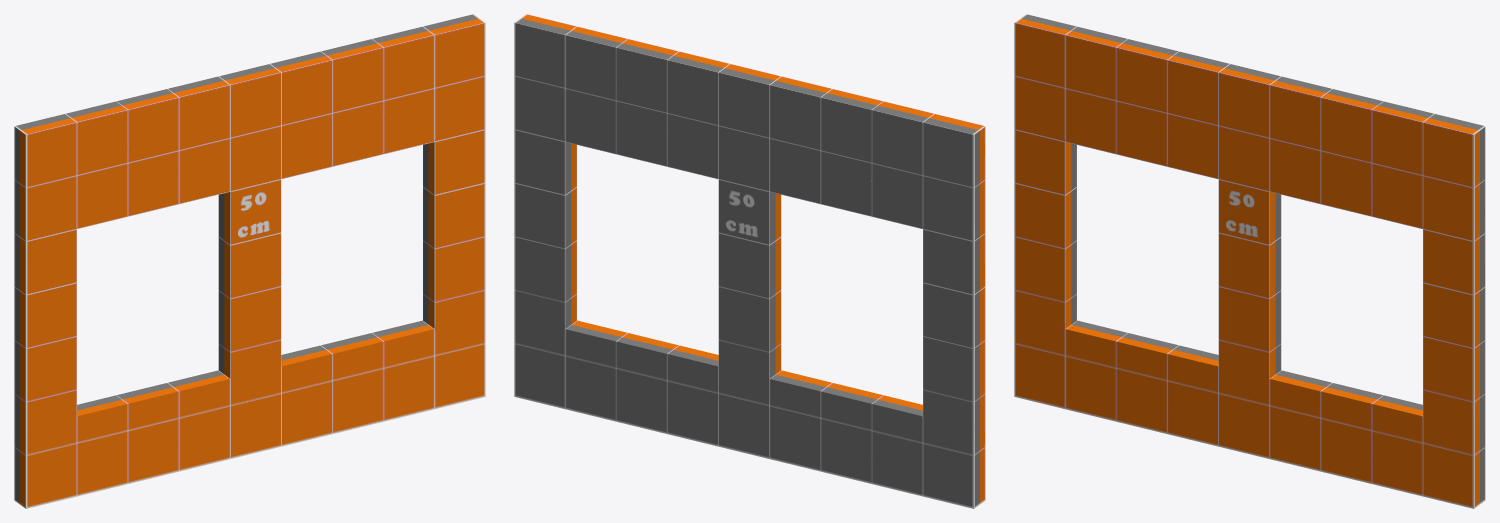
The model's file is M01WallWindowTypeE_2.FBX.
3 views of the same model, side by side, from view 1: azimuth 30°, elevation 25°; view 2: azimuth 150°, elevation 25°; view 3: azimuth 330°, elevation 25° (orthographic).
Visible parts, largest first — view 1: M01WallWindowTypeE_2; view 2: M01WallWindowTypeE_2; view 3: M01WallWindowTypeE_2.
Part boxes in pixels (x1,y1,x2,y2): M01WallWindowTypeE_2: (14, 14, 485, 508); M01WallWindowTypeE_2: (514, 14, 985, 508); M01WallWindowTypeE_2: (1014, 14, 1485, 508).
Size of what is drawn, in the model's own units: 4.5 by 3.5 by 0.2.
